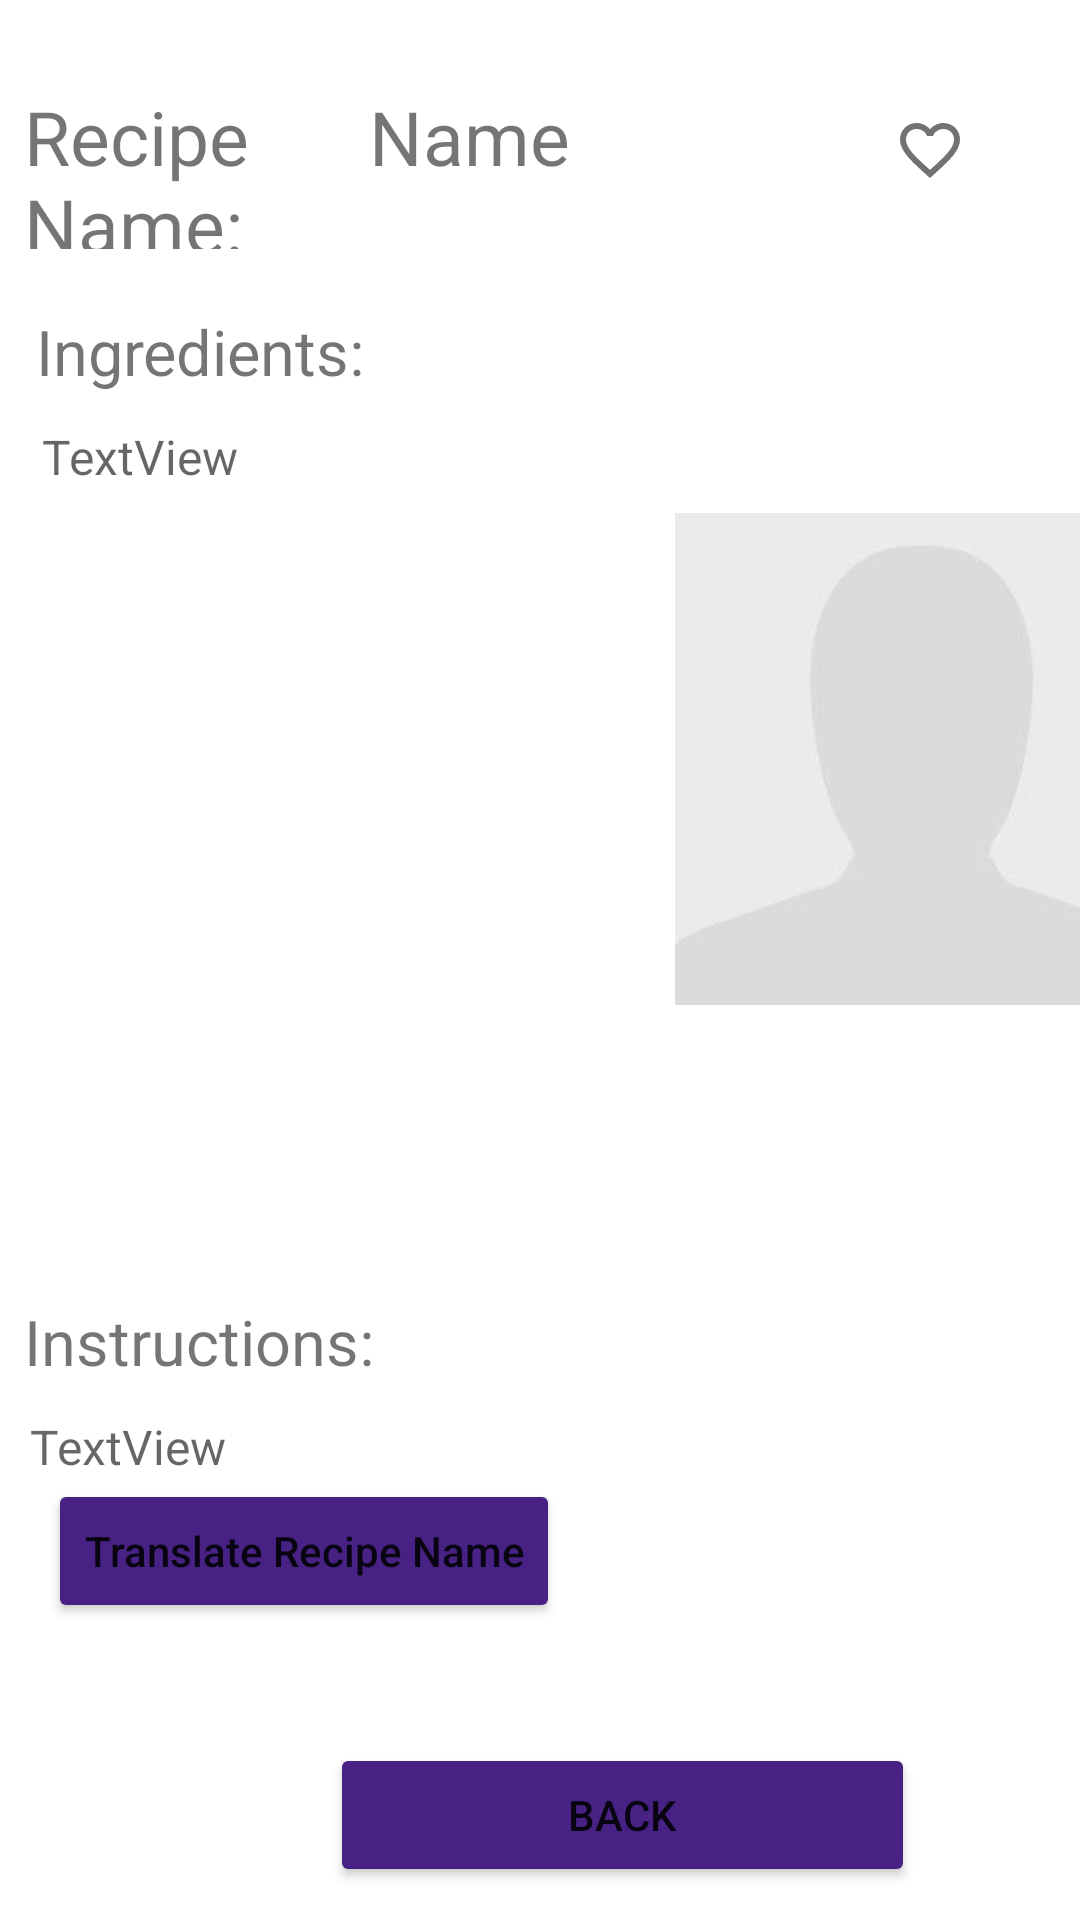

Point at icon controls on the screen. Image size 1080px x 1920px, points as [x,y].
wishlist item: [930,150]
